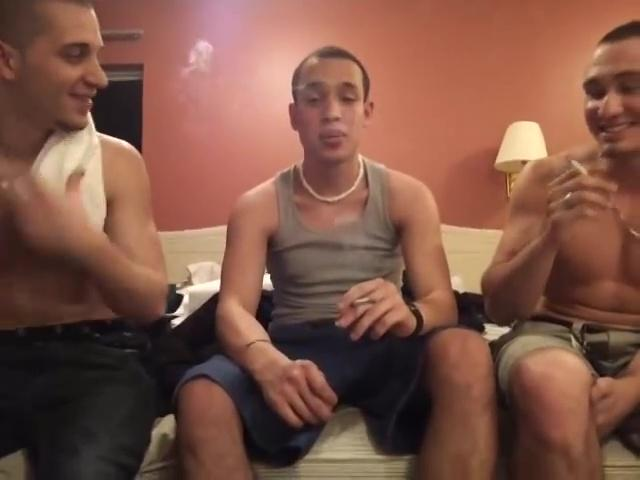cigarette: (569, 154, 592, 177), (346, 296, 379, 311)
